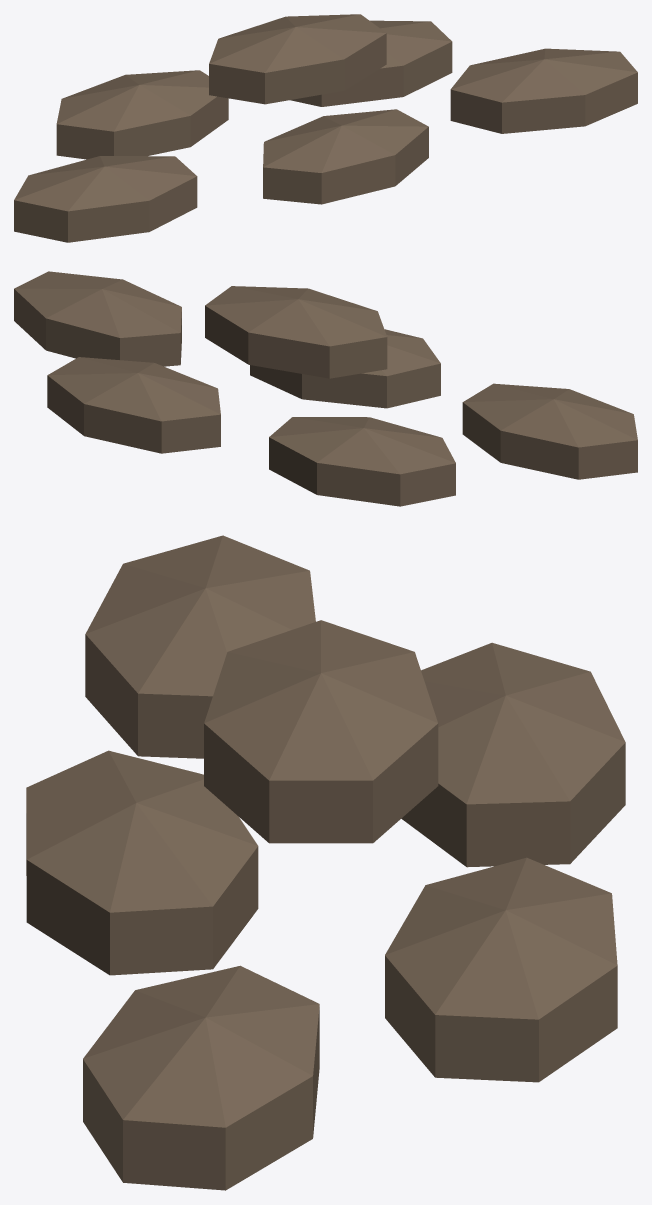
The model's file is ce_ammo2_sling_stone_b.obj.
3 views of the same model, one above another, from view 1: azimuth 30°, elevation 25°; view 2: azimuth 150°, elevation 25°; view 3: azimuth 270°, elevation 25° (orthographic). The views are drawn at different scales.
Visible parts, largest first — view 1: ce_ammo2_sling_stone_b_2, ce_ammo2_sling_stone_b_0, ce_ammo2_sling_stone_b_5, ce_ammo2_sling_stone_b_1, ce_ammo2_sling_stone_b_3, ce_ammo2_sling_stone_b_4; view 2: ce_ammo2_sling_stone_b_3, ce_ammo2_sling_stone_b_5, ce_ammo2_sling_stone_b_0, ce_ammo2_sling_stone_b_4, ce_ammo2_sling_stone_b_2, ce_ammo2_sling_stone_b_1; view 3: ce_ammo2_sling_stone_b_2, ce_ammo2_sling_stone_b_5, ce_ammo2_sling_stone_b_4, ce_ammo2_sling_stone_b_1, ce_ammo2_sling_stone_b_3, ce_ammo2_sling_stone_b_0.
Part boxes in pixels (x1,y1,x2,y2): ce_ammo2_sling_stone_b_2: (450, 48, 637, 133); ce_ammo2_sling_stone_b_0: (14, 156, 197, 242); ce_ammo2_sling_stone_b_5: (209, 14, 386, 104); ce_ammo2_sling_stone_b_1: (263, 109, 428, 204); ce_ammo2_sling_stone_b_3: (56, 70, 228, 159); ce_ammo2_sling_stone_b_4: (290, 20, 452, 106); ce_ammo2_sling_stone_b_3: (269, 417, 455, 506); ce_ammo2_sling_stone_b_5: (205, 286, 387, 378); ce_ammo2_sling_stone_b_0: (462, 383, 637, 479); ce_ammo2_sling_stone_b_4: (47, 357, 220, 453); ce_ammo2_sling_stone_b_2: (14, 271, 181, 366); ce_ammo2_sling_stone_b_1: (250, 329, 440, 408); ce_ammo2_sling_stone_b_2: (83, 965, 319, 1190); ce_ammo2_sling_stone_b_5: (204, 620, 438, 843); ce_ammo2_sling_stone_b_4: (385, 857, 617, 1082); ce_ammo2_sling_stone_b_1: (26, 750, 258, 975); ce_ammo2_sling_stone_b_3: (401, 642, 625, 867); ce_ammo2_sling_stone_b_0: (85, 535, 315, 758).
Size of the model in its own units: 0.6071 by 0.122 by 0.2596.
